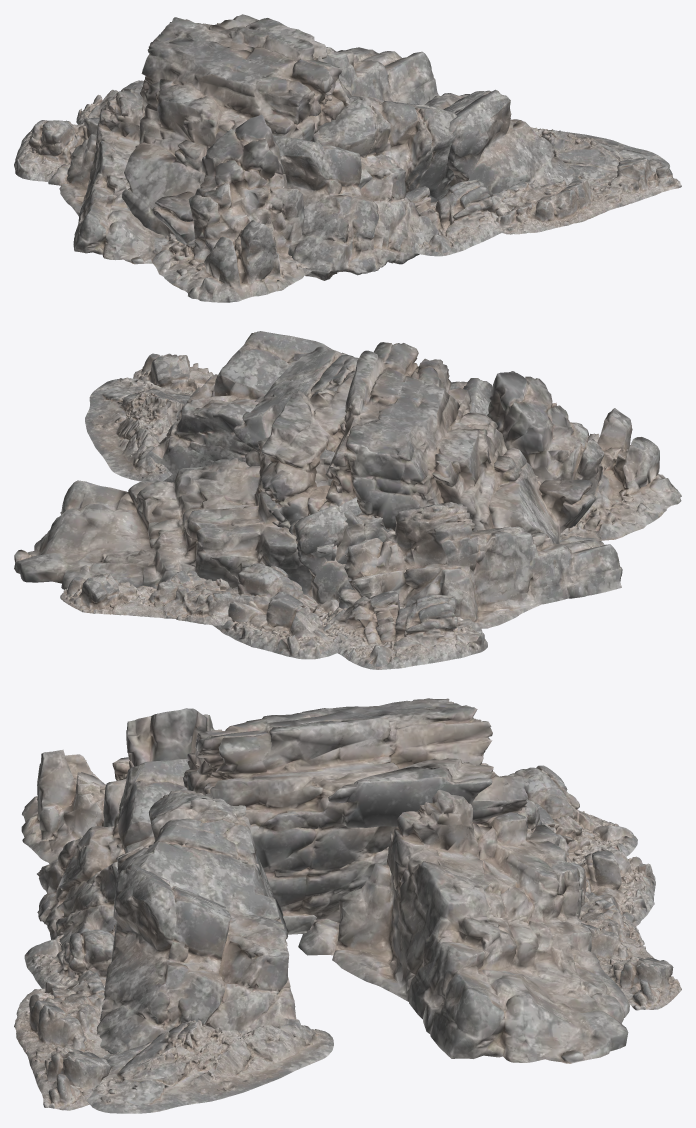
The model's file is rock_formation_d.glb.
3 renders of one model, top to bottom at view 1: azimuth 30°, elevation 25°; view 2: azimuth 150°, elevation 25°; view 3: azimuth 270°, elevation 25°, orthographic. The views are drawn at different scales.
Parts seen in each view (by area): view 1: rock_formation_huge_c_LOD0, rock_formation_huge_b_LOD0 (×2), rock_formation_large_c_LOD0, rock_formation_huge_d_LOD0 (×2), rock_formation_huge_a_LOD0, rock_formation_mid_a_LOD0 (×3), rock_formation_mid_b_LOD0, rock_formation_mid_d_LOD0; view 2: rock_formation_huge_d_LOD0 (×2), rock_formation_huge_c_LOD0, rock_formation_mid_a_LOD0 (×2), rock_formation_large_c_LOD0, rock_formation_huge_b_LOD0 (×3), rock_formation_mid_b_LOD0 (×2), rock_formation_mid_d_LOD0, rock_formation_huge_a_LOD0; view 3: rock_formation_huge_d_LOD0, rock_formation_huge_c_LOD0, rock_formation_huge_b_LOD0 (×2), rock_formation_mid_b_LOD0 (×2), rock_formation_mid_d_LOD0, rock_formation_mid_a_LOD0 (×3), rock_formation_huge_a_LOD0, rock_formation_large_c_LOD0.
Part boxes in pixels (box(x1,y1,x2,y2)): rock_formation_huge_c_LOD0: box(122, 14, 351, 244); rock_formation_huge_b_LOD0 (×2): box(273, 89, 578, 280); rock_formation_large_c_LOD0: box(151, 114, 311, 302); rock_formation_huge_d_LOD0 (×2): box(48, 47, 438, 264); rock_formation_huge_a_LOD0: box(312, 95, 458, 202); rock_formation_mid_a_LOD0 (×3): box(14, 80, 513, 256); rock_formation_mid_b_LOD0: box(487, 157, 681, 234); rock_formation_mid_d_LOD0: box(531, 127, 669, 184); rock_formation_huge_d_LOD0 (×2): box(14, 437, 622, 633); rock_formation_huge_c_LOD0: box(261, 342, 596, 543); rock_formation_mid_a_LOD0 (×2): box(213, 561, 487, 669); rock_formation_large_c_LOD0: box(487, 371, 681, 541); rock_formation_huge_b_LOD0 (×3): box(137, 331, 491, 605); rock_formation_mid_b_LOD0 (×2): box(60, 353, 254, 625); rock_formation_mid_d_LOD0: box(85, 377, 191, 482); rock_formation_huge_a_LOD0: box(233, 346, 358, 466); rock_formation_huge_d_LOD0: box(298, 789, 629, 1063); rock_formation_huge_c_LOD0: box(182, 698, 527, 934); rock_formation_huge_b_LOD0 (×2): box(37, 759, 306, 1054); rock_formation_mid_b_LOD0 (×2): box(14, 891, 681, 1110); rock_formation_mid_d_LOD0: box(86, 1020, 333, 1113); rock_formation_mid_a_LOD0 (×3): box(24, 765, 655, 990); rock_formation_huge_a_LOD0: box(117, 790, 288, 938); rock_formation_large_c_LOD0: box(21, 708, 214, 863).
Bounding box in the file's own units: 55.34 × 17.81 × 45.75.
8 materials, 8 textured.
